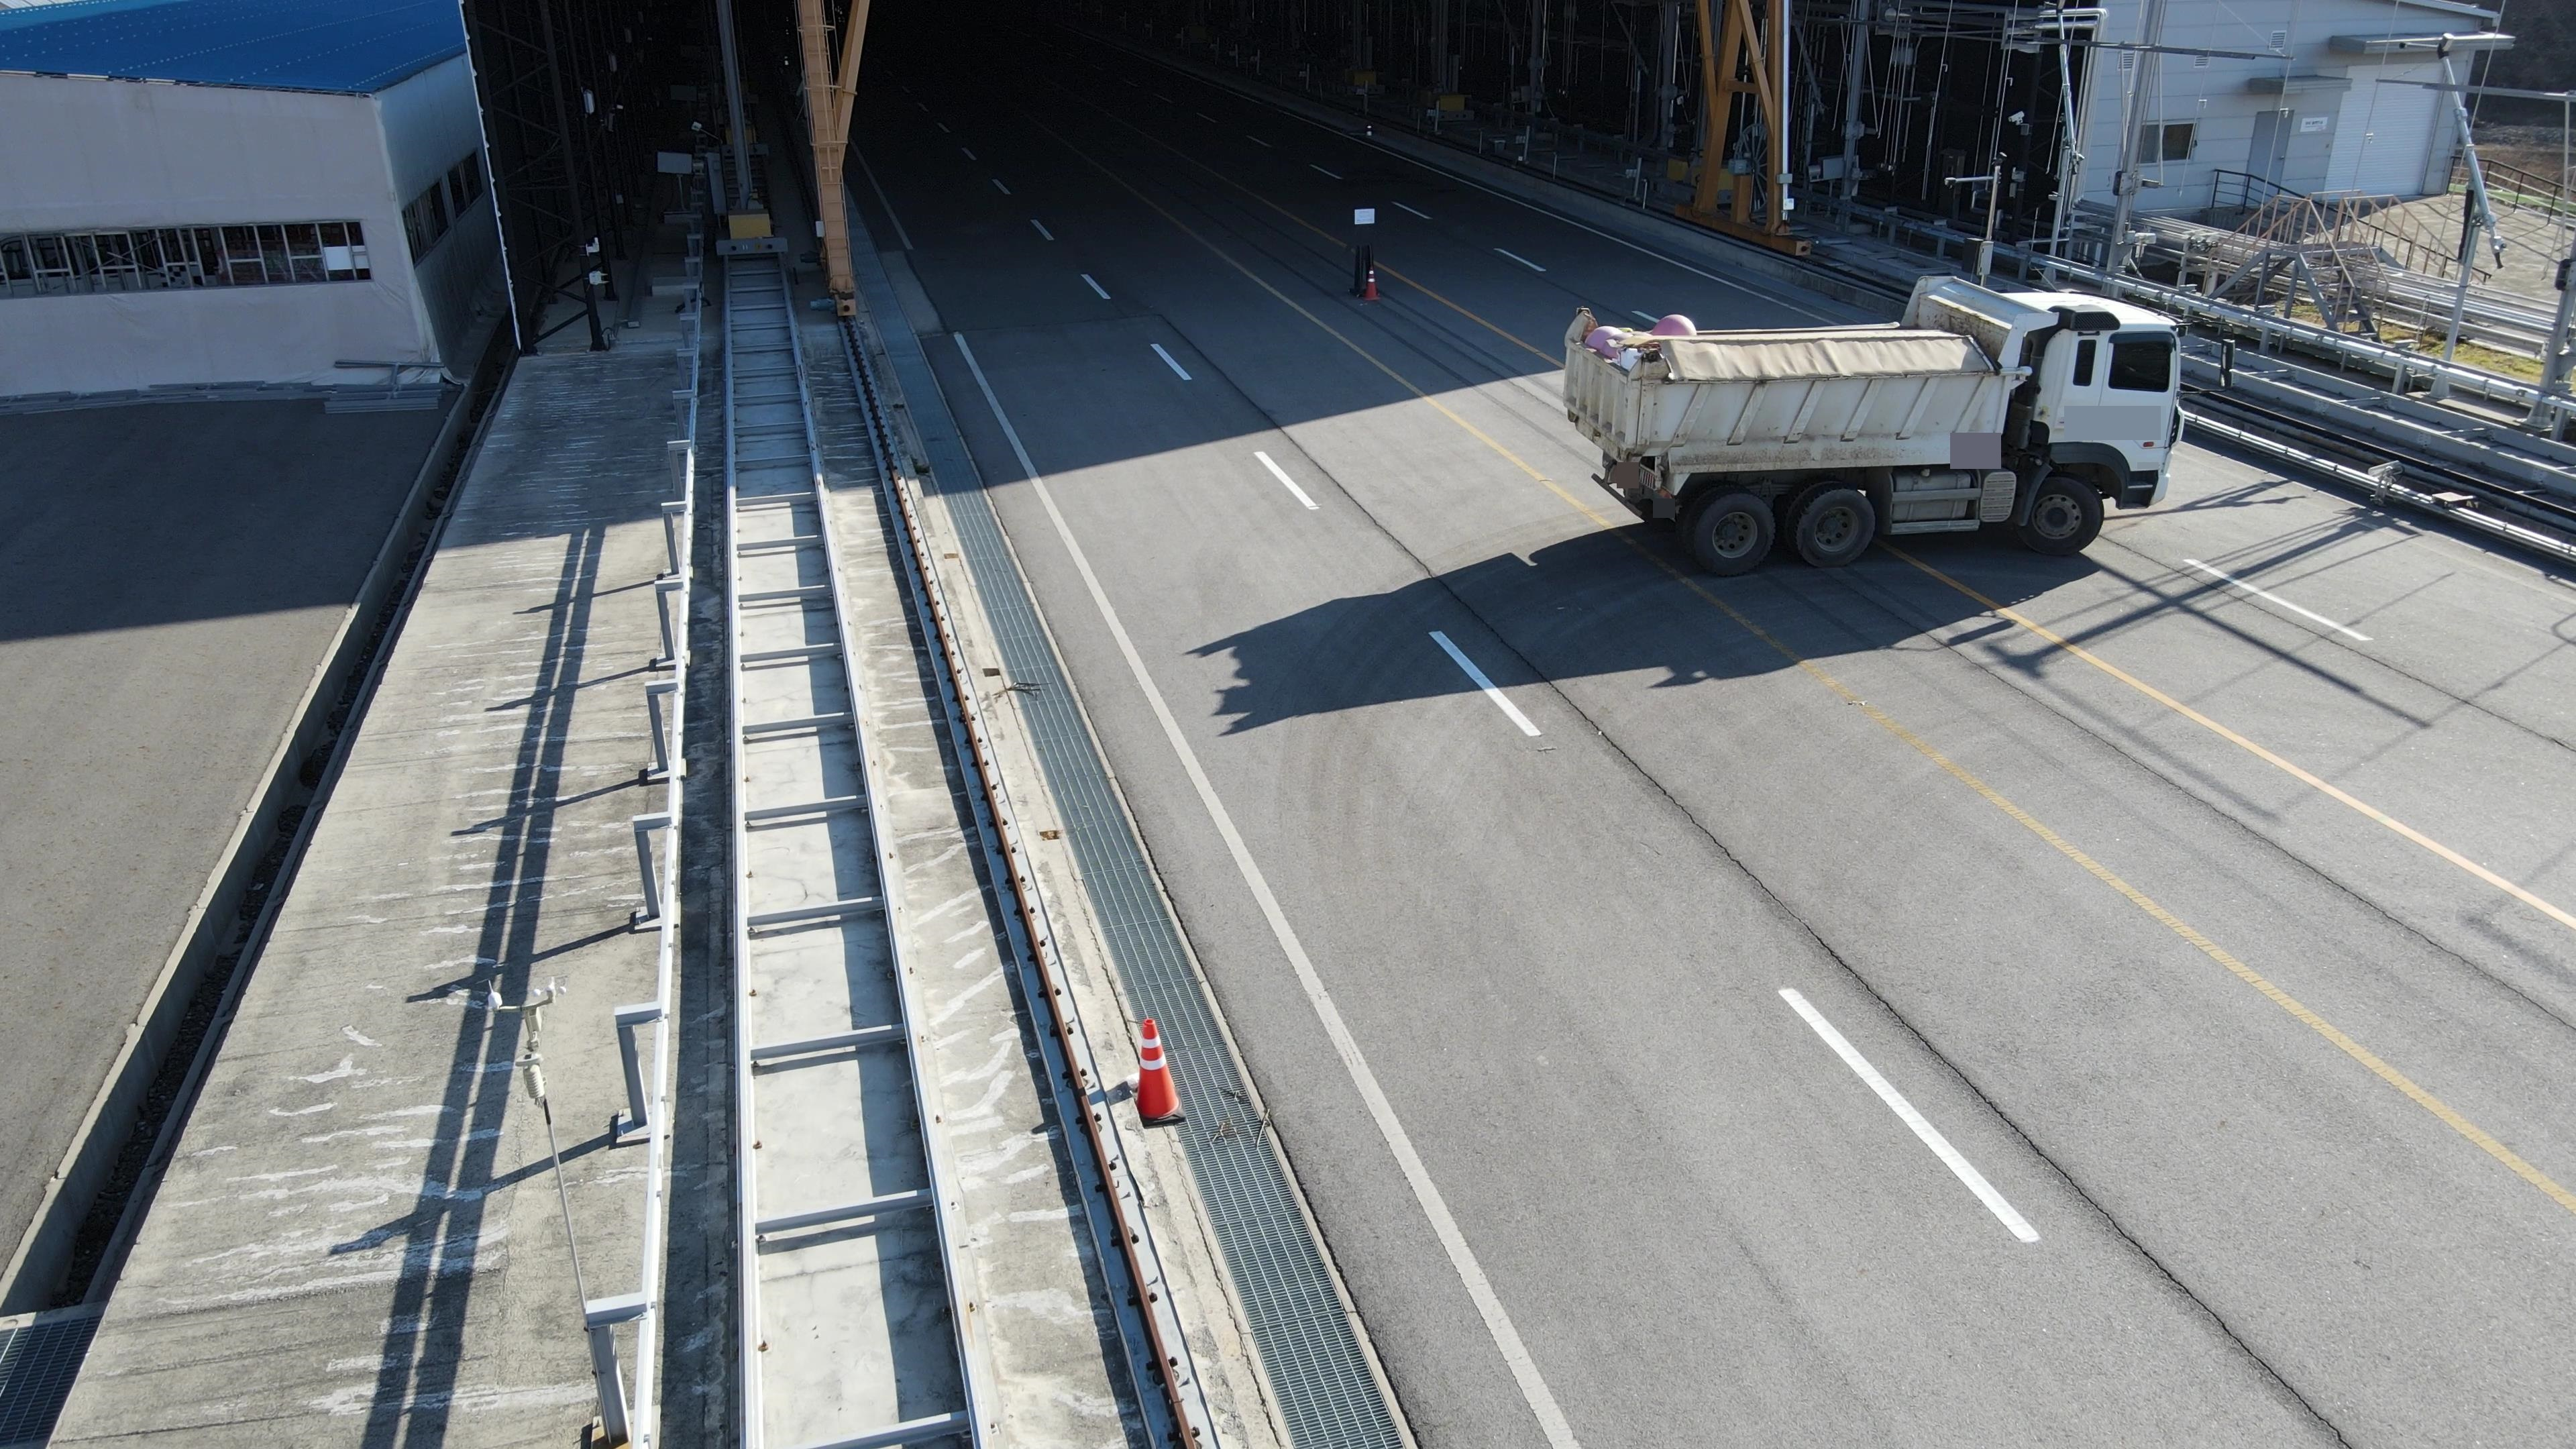불법차량: (1564, 274, 2236, 577)
